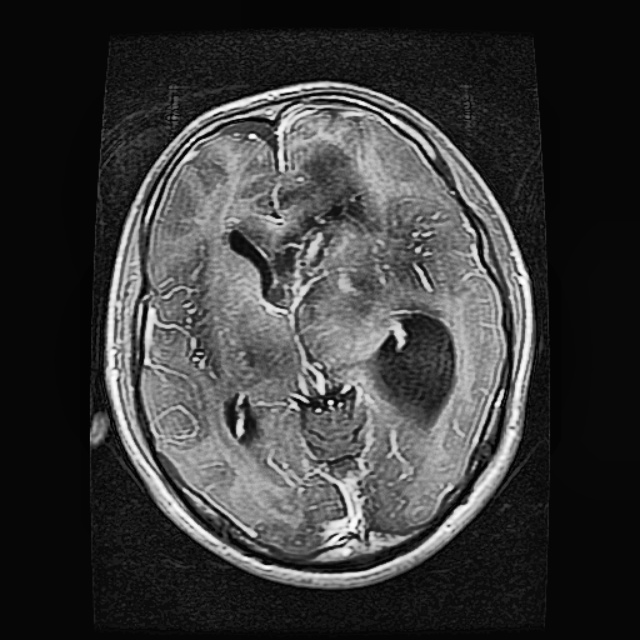Glioma: (374, 309, 457, 420)
